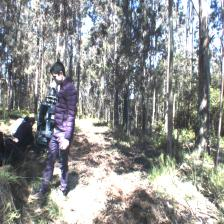trunktrack_idkeyframe: (194, 52, 211, 154), (167, 72, 173, 152)
